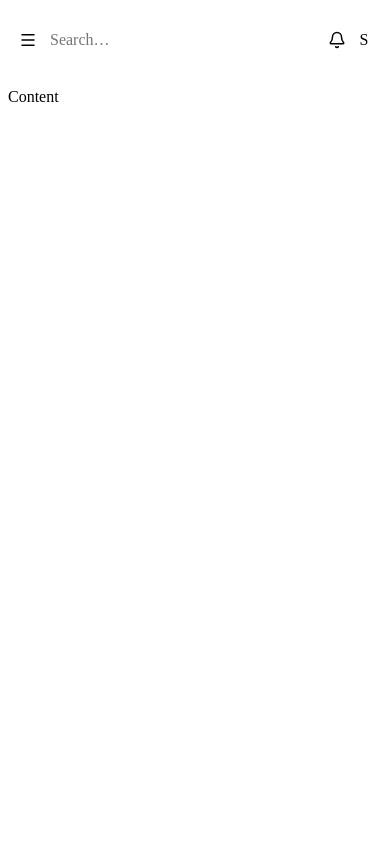
Test: AppShell navigation drawer › opens from the menu button and toggles aria-expanded
This screenshot has width=390, height=844.
Click the button named "Open navigation" at (28, 40), box [8, 20, 48, 60]
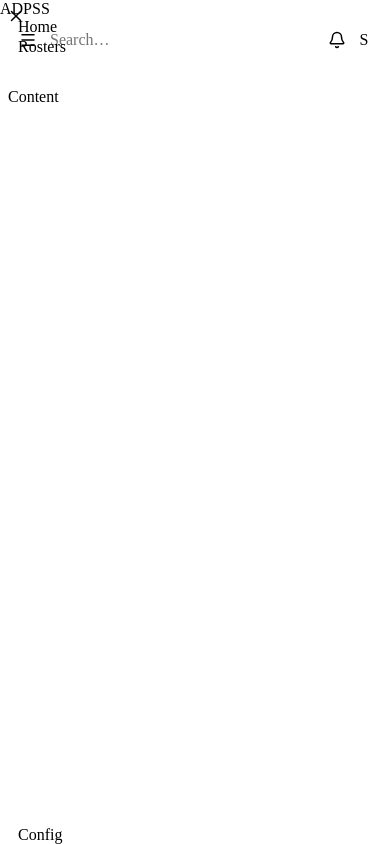
expect the navigation bar named "Main navigation" is shown: met, box [0, 18, 66, 56]
expect the navigation bar named "Settings" is shown: met, box [0, 826, 62, 843]
expect the button named "Open navigation" is expanded: met, box [8, 20, 48, 60]
